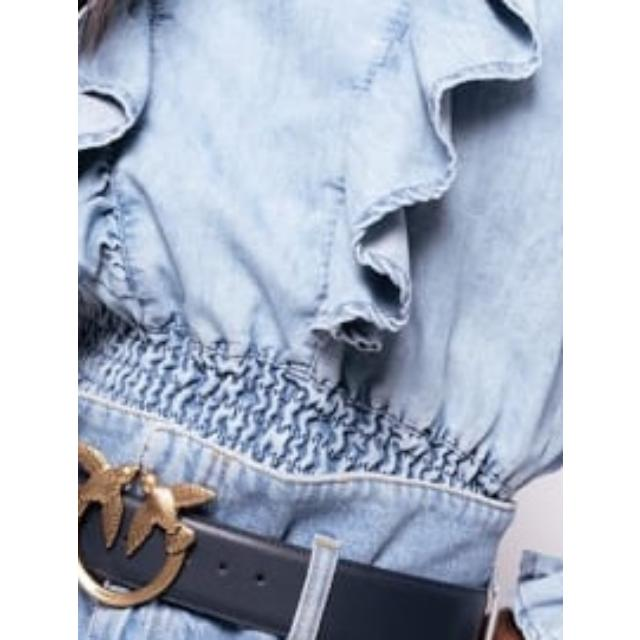denim: (77, 0, 491, 640)
